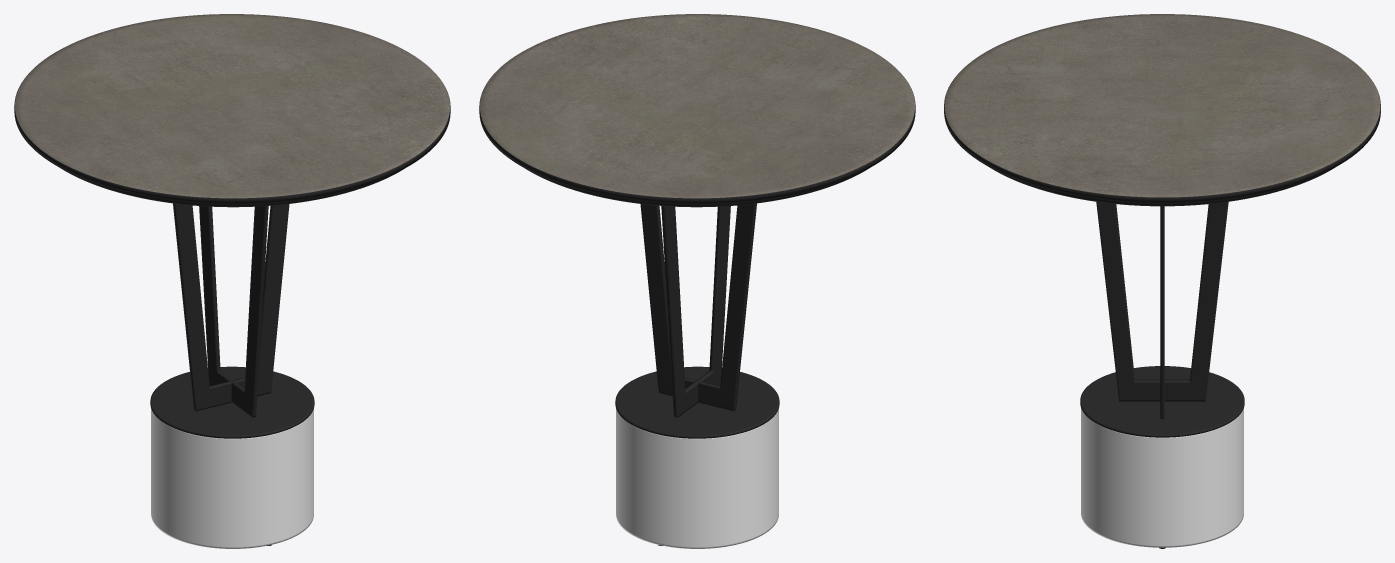
Rendered from Tabel.glb.
3 views of the same model, side by side, from view 1: azimuth 30°, elevation 25°; view 2: azimuth 150°, elevation 25°; view 3: azimuth 270°, elevation 25° (orthographic).
Visible parts, largest first — view 1: Dining table; view 2: Dining table; view 3: Dining table.
Part boxes in pixels (left/top/right/bottom): Dining table: left=14, top=14, right=450, bottom=548; Dining table: left=479, top=14, right=915, bottom=548; Dining table: left=944, top=14, right=1380, bottom=548.
Bounding box in the file's own units: 0.9746 × 1.02 × 0.9789.
3 materials, 1 textured.
